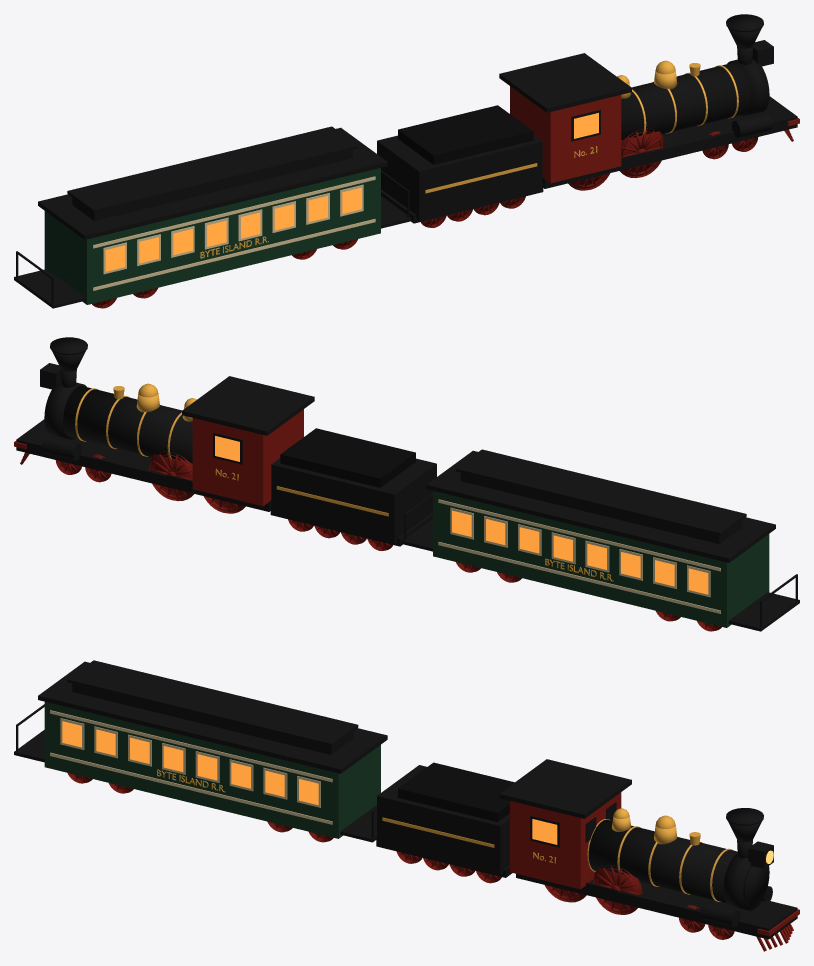
The model's file is train.glb.
3 renders of one model, top to bottom at view 1: azimuth 30°, elevation 25°; view 2: azimuth 150°, elevation 25°; view 3: azimuth 330°, elevation 25°, orthographic.
Parts seen in each view (by area): view 1: car_roof, car_body, tender_body, loco_boiler, loco_cab, tender_coal, loco_cab_roof, car_trim, loco_frame, car_windows, car_platforms, wheel_loco_drive2_R (+4 smaller); view 2: car_roof, car_body, tender_body, loco_boiler, loco_cab, tender_coal, loco_cab_roof, car_trim, loco_frame, car_windows, car_platforms, wheel_loco_drive2_L (+4 smaller); view 3: car_roof, car_body, tender_body, loco_boiler, loco_cab, loco_cab_roof, car_trim, loco_frame, tender_coal, car_windows, loco_smokebox, car_platforms (+9 smaller).
Part boxes in pixels (x1,y1,x2,y2): car_roof: [38, 126, 387, 239]; car_body: [44, 168, 380, 304]; tender_body: [377, 135, 543, 223]; loco_boiler: [621, 63, 750, 140]; loco_cab: [510, 86, 621, 183]; tender_coal: [398, 105, 533, 164]; loco_cab_roof: [499, 53, 631, 112]; car_trim: [93, 176, 375, 290]; loco_frame: [542, 96, 797, 188]; car_windows: [105, 187, 361, 271]; car_platforms: [14, 170, 411, 308]; wheel_loco_drive2_R: [620, 128, 664, 178]; car_roof: [426, 449, 775, 562]; car_body: [433, 491, 769, 627]; tender_body: [270, 458, 436, 546]; loco_boiler: [63, 386, 192, 463]; loco_cab: [192, 409, 303, 506]; tender_coal: [280, 428, 415, 487]; loco_cab_roof: [182, 376, 314, 435]; car_trim: [438, 499, 720, 613]; loco_frame: [16, 419, 271, 511]; car_windows: [452, 510, 708, 594]; car_platforms: [402, 493, 799, 631]; wheel_loco_drive2_L: [149, 451, 193, 501]; car_roof: [38, 660, 387, 773]; car_body: [44, 701, 380, 838]; tender_body: [376, 765, 512, 877]; loco_boiler: [588, 819, 737, 902]; loco_cab: [510, 792, 621, 889]; loco_cab_roof: [499, 759, 631, 818]; car_trim: [50, 710, 332, 824]; loco_frame: [516, 874, 797, 939]; tender_coal: [398, 762, 514, 821]; car_windows: [62, 721, 318, 805]; loco_smokebox: [723, 853, 769, 910]; car_platforms: [14, 704, 376, 842].
Bounding box in the file's own units: 25.67 × 3.85 × 2.8.
